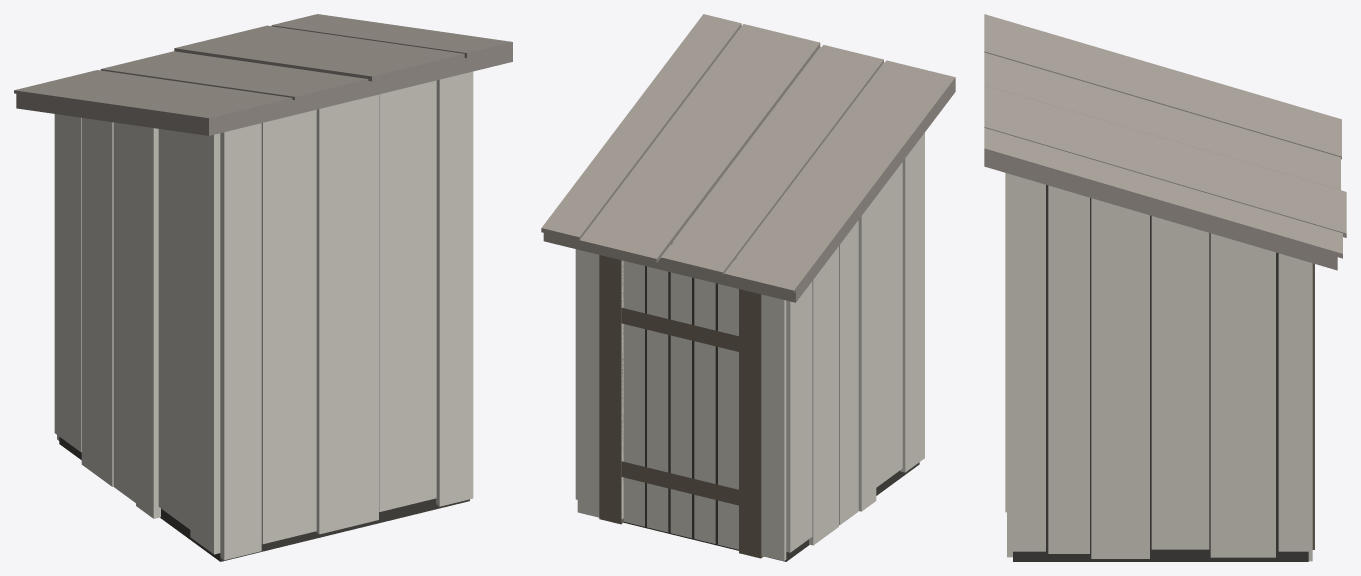
The model's file is recon_1835_south_a3_043__inferred_1835.glb.
3 renders of one model, left to right at view 1: azimuth 30°, elevation 25°; view 2: azimuth 150°, elevation 25°; view 3: azimuth 270°, elevation 25°, orthographic. The views are drawn at different scales.
Visible parts, largest first — view 1: recon_1835_south_a3_043__inferred_1835; view 2: recon_1835_south_a3_043__inferred_1835; view 3: recon_1835_south_a3_043__inferred_1835.
Boxes of the visible parts, bbox=[...] form: recon_1835_south_a3_043__inferred_1835: bbox=[14, 14, 512, 561]; recon_1835_south_a3_043__inferred_1835: bbox=[541, 14, 955, 561]; recon_1835_south_a3_043__inferred_1835: bbox=[984, 14, 1346, 561].
Bounding box in the file's own units: 1.84 × 2.68 × 2.07.
